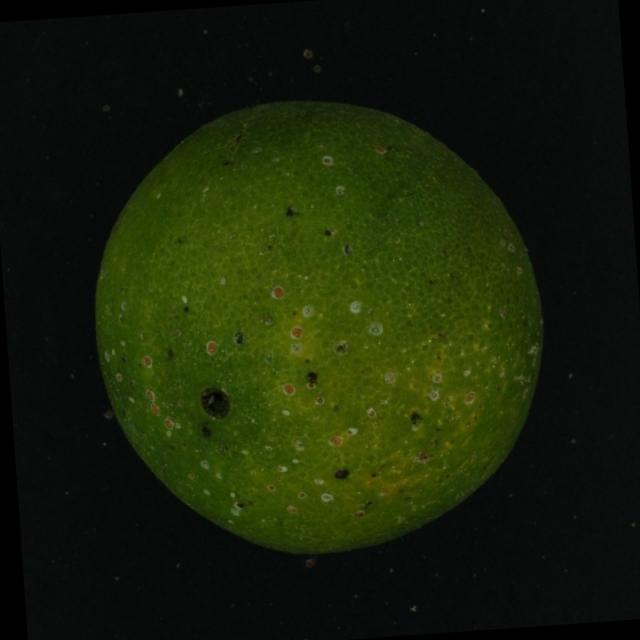grenning: (78, 86, 567, 568)
